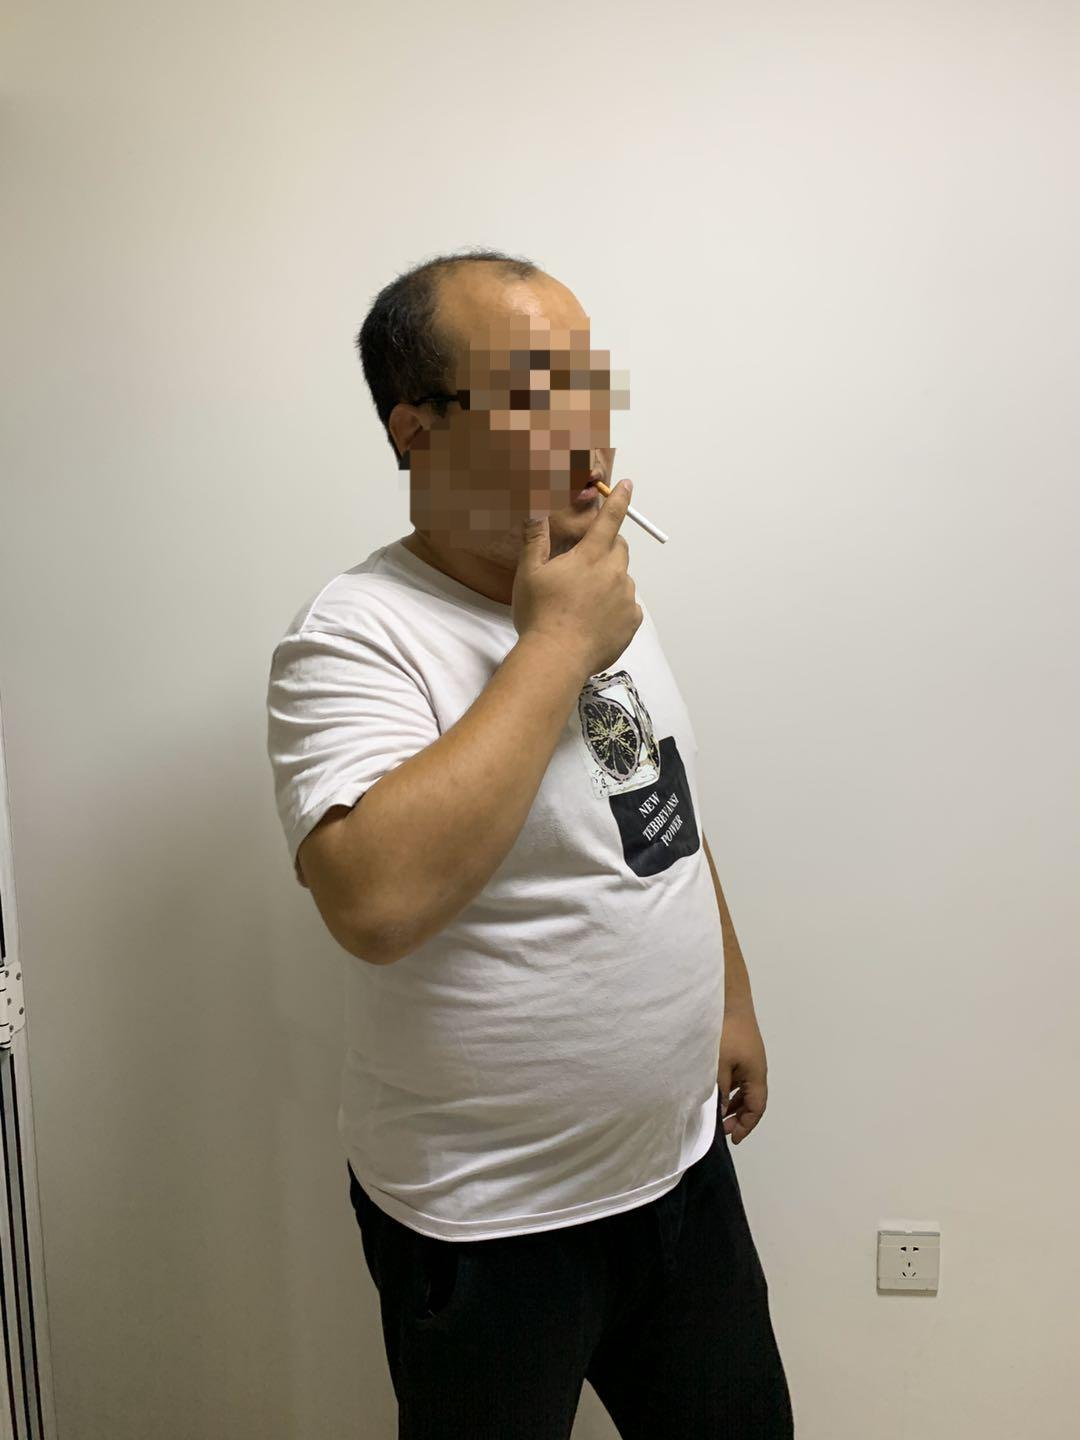smoke: (594, 484, 676, 547)
